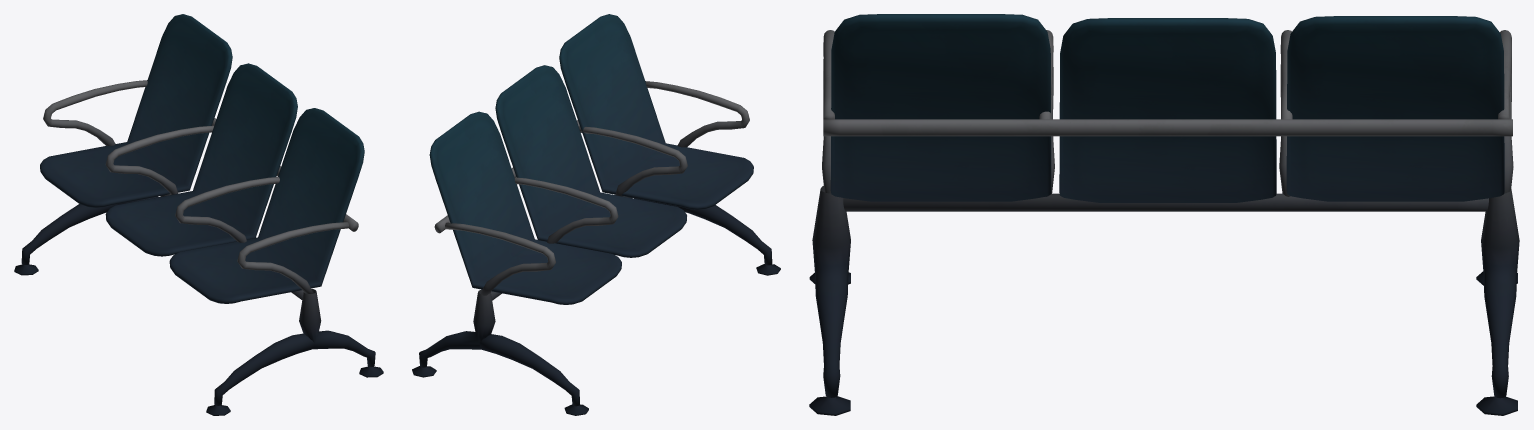
The model's file is chair 1.fbx.
3 views of the same model, side by side, from view 1: azimuth 30°, elevation 25°; view 2: azimuth 150°, elevation 25°; view 3: azimuth 270°, elevation 25° (orthographic). The views are drawn at different scales.
Parts seen in each view (by area): view 1: Circle.007; view 2: Circle.007; view 3: Circle.007.
Boxes of the visible parts, <box> form: Circle.007: <box>14,14,383,415</box>; Circle.007: <box>412,14,780,415</box>; Circle.007: <box>809,14,1519,415</box>.
Bounding box in the file's own units: 322 × 402 × 655.
